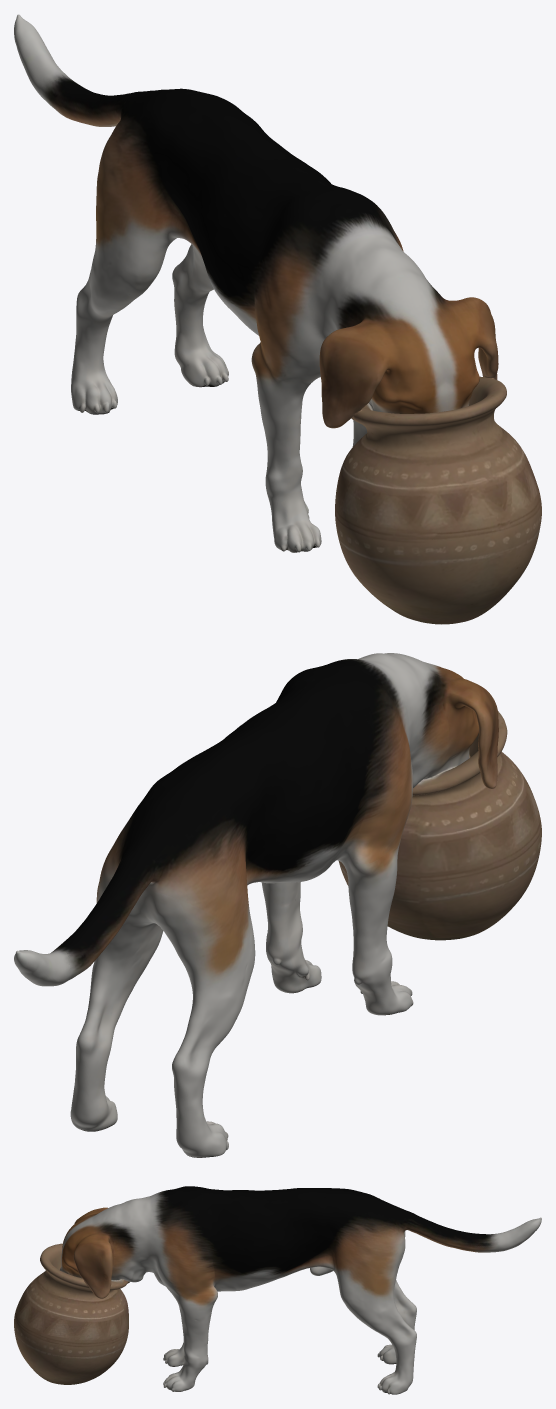
The model's file is 75-el-león-del-chorote-optimized.glb.
3 renders of one model, top to bottom at view 1: azimuth 30°, elevation 25°; view 2: azimuth 150°, elevation 25°; view 3: azimuth 270°, elevation 25°, orthographic. The views are drawn at different scales.
Parts seen in each view (by area): view 1: tripo_node_f0b64694-eb20-47fb-967e-81890e30ac65; view 2: tripo_node_f0b64694-eb20-47fb-967e-81890e30ac65; view 3: tripo_node_f0b64694-eb20-47fb-967e-81890e30ac65.
Boxes of the visible parts, left/top/right/bottom form: tripo_node_f0b64694-eb20-47fb-967e-81890e30ac65: left=14, top=14, right=541, bottom=624; tripo_node_f0b64694-eb20-47fb-967e-81890e30ac65: left=14, top=653, right=541, bottom=1157; tripo_node_f0b64694-eb20-47fb-967e-81890e30ac65: left=14, top=1186, right=541, bottom=1394.
Size of the model in its own units: 0.2186 by 0.3869 by 1.
Materials: 1 (1 with a texture image).
